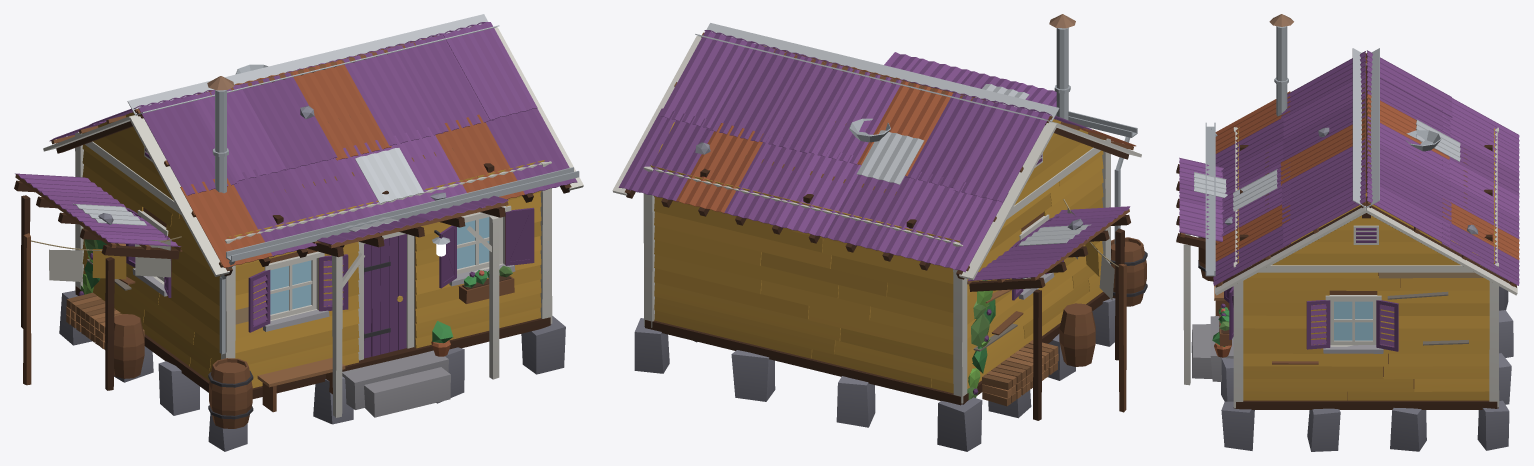
The picture shows the model from 3 angles, left to right: view 1: azimuth 30°, elevation 25°; view 2: azimuth 150°, elevation 25°; view 3: azimuth 270°, elevation 25°; orthographic projection. The views are drawn at different scales.
Parts seen in each view (by area): view 1: H13_ROOF, H13_WALL_S, H13_WALL_W, H13_BASE, H13_DOOR_main; view 2: H13_ROOF, H13_WALL_N, H13_WALL_W, H13_BASE, H13_WALL_S; view 3: H13_ROOF, H13_WALL_E, H13_BASE, H13_WALL_S, H13_WALL_N.
Boxes of the visible parts, x1,y1,x2,y2 form: H13_ROOF: (43,14,583,276); H13_WALL_S: (208,160,579,428); H13_WALL_W: (14,112,232,390); H13_BASE: (59,286,565,451); H13_DOOR_main: (364,234,406,358); H13_ROOF: (612,14,1141,280); H13_WALL_N: (643,165,963,402); H13_WALL_W: (961,119,1130,420); H13_BASE: (634,292,1115,451); H13_WALL_S: (884,52,1147,306); H13_ROOF: (1213,14,1519,295); H13_WALL_E: (1234,190,1498,407); H13_BASE: (1191,275,1513,451); H13_WALL_S: (1176,122,1243,406); H13_WALL_N: (1489,127,1499,407).
Size of the model in its own units: 7.2 by 5.25 by 5.38.
